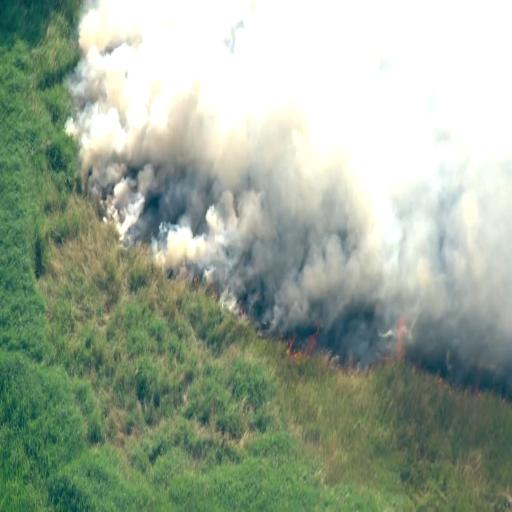smoke: (329, 167, 512, 385), (159, 124, 355, 306), (92, 0, 188, 231)
